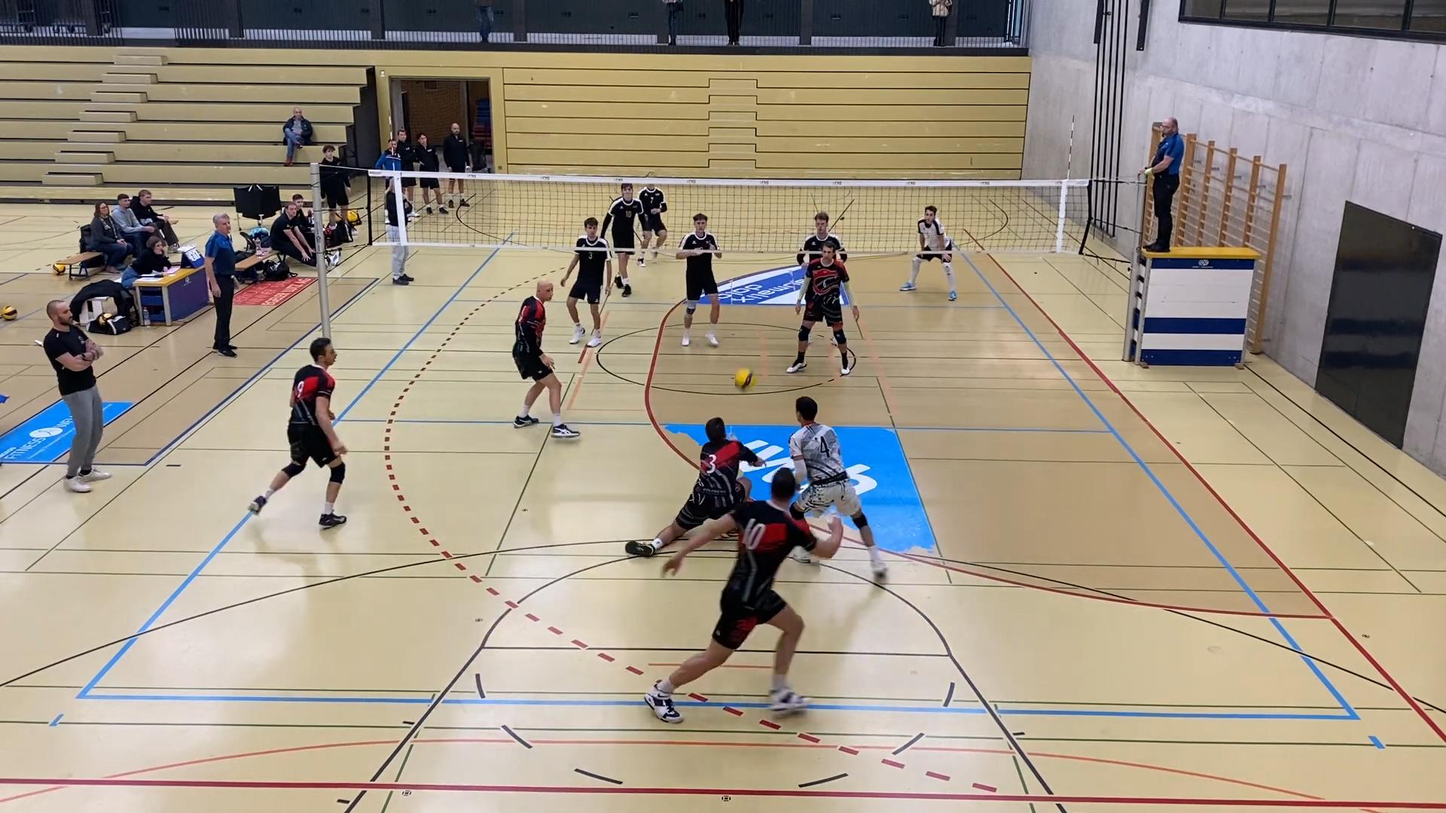ricezione: (621, 408, 771, 563)
